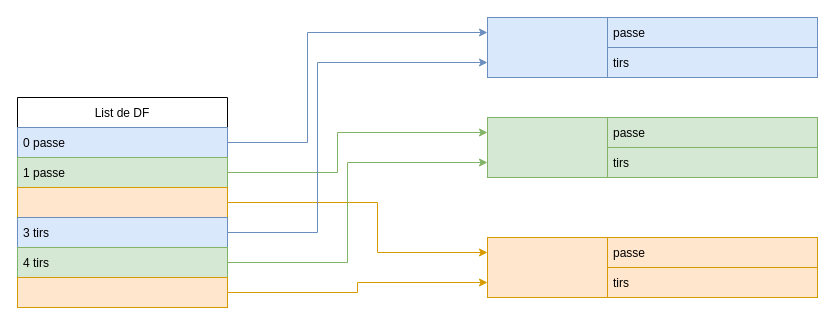
This 835x325 diagram has some shape labels left out. Here are the shapes that lost their labels. From the top down, the box of each, then its label:
(486, 16, 608, 78): TTC
(486, 116, 608, 178): Ligue
(16, 186, 228, 218): 2 passe
(486, 236, 608, 298): Coupe
(16, 276, 228, 308): 5 tirs
